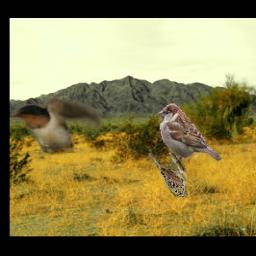Sparrow: (158, 104, 221, 166), (147, 153, 188, 197)
Swallow: (13, 96, 104, 154)
